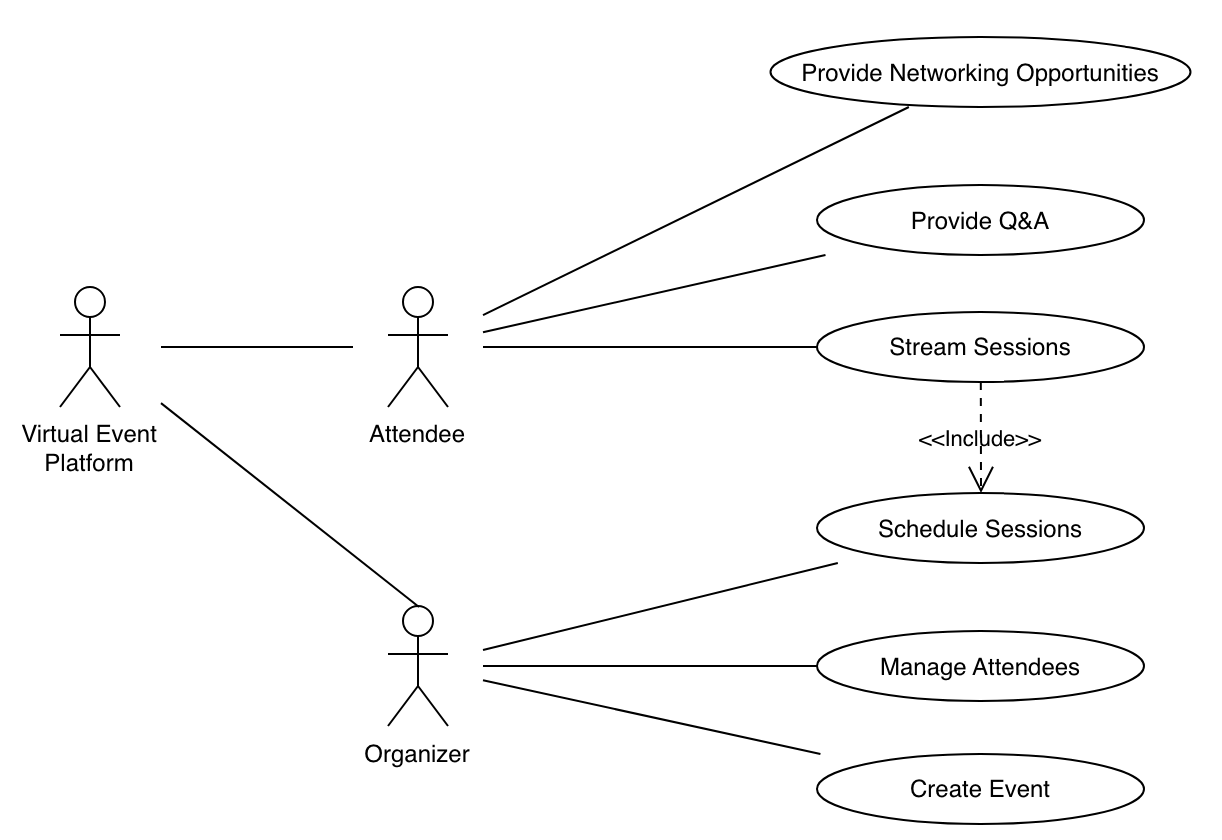actor: (378, 281, 454, 408), (52, 285, 121, 407), (386, 602, 447, 728)
association: (482, 107, 908, 316), (158, 400, 420, 605), (481, 560, 840, 651), (475, 675, 819, 754), (485, 254, 824, 332), (480, 336, 819, 357), (477, 656, 815, 673), (152, 339, 362, 361)
text: (799, 60, 1160, 89), (17, 416, 158, 478), (877, 512, 1084, 545), (876, 653, 1084, 685), (886, 334, 1075, 360), (904, 772, 1052, 805), (907, 202, 1054, 235), (350, 734, 478, 770), (363, 413, 473, 449), (918, 433, 1046, 452)
use_case: (773, 36, 1193, 106), (817, 310, 1147, 386), (815, 184, 1147, 257), (817, 491, 1147, 564), (817, 753, 1147, 825), (817, 630, 1145, 698)
